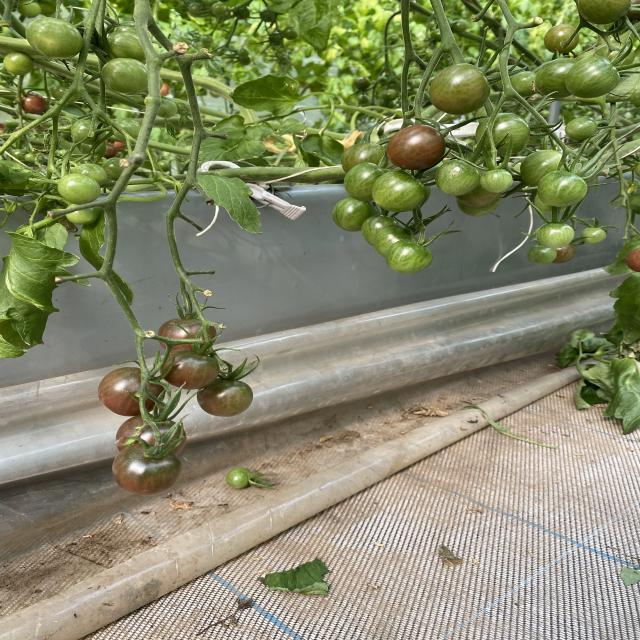kirmizi: (396, 127, 430, 154)
yesil: (347, 168, 440, 265), (538, 143, 603, 222), (106, 52, 188, 108), (32, 22, 102, 76), (440, 66, 491, 120)
